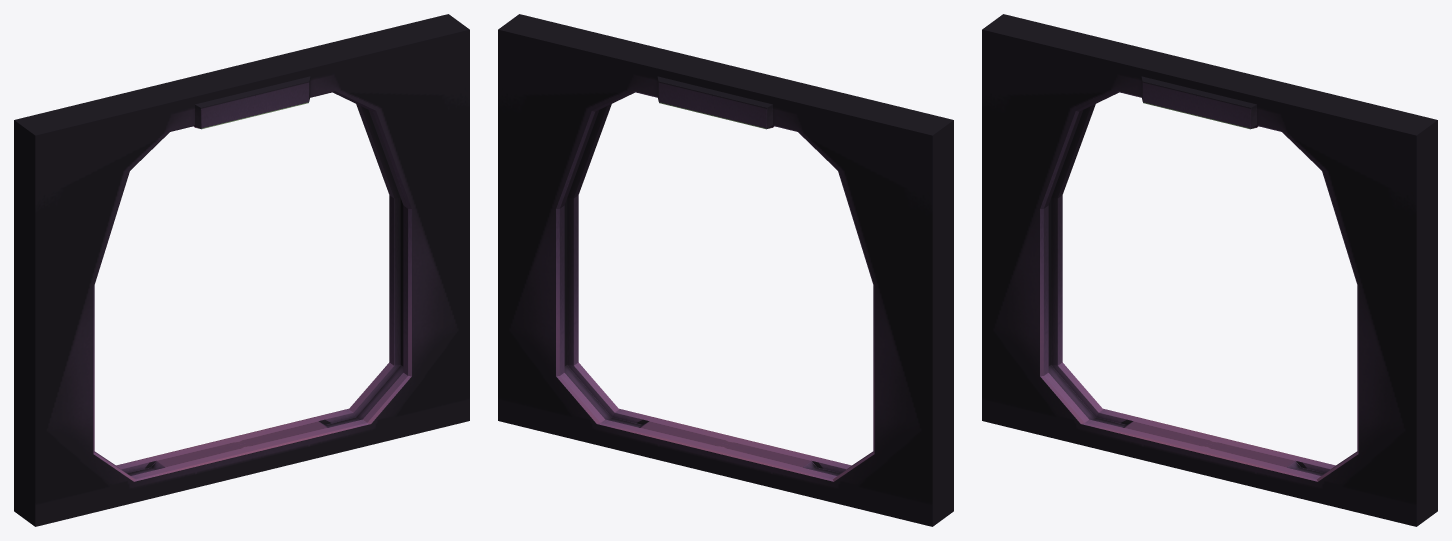
File: mod_Door_Frame.glb
The picture shows the model from 3 angles, left to right: view 1: azimuth 30°, elevation 25°; view 2: azimuth 150°, elevation 25°; view 3: azimuth 330°, elevation 25°; orthographic projection.
Visible parts, largest first — view 1: seg_Door_Frame; view 2: seg_Door_Frame; view 3: seg_Door_Frame.
Boxes of the visible parts, x1=… form: seg_Door_Frame: x1=14, y1=14, x2=469, y2=526; seg_Door_Frame: x1=498, y1=14, x2=953, y2=526; seg_Door_Frame: x1=982, y1=14, x2=1437, y2=526.
Size of the model in its own units: 3.36 by 2.89 by 0.3555.
Materials: 1 (1 with a texture image).
